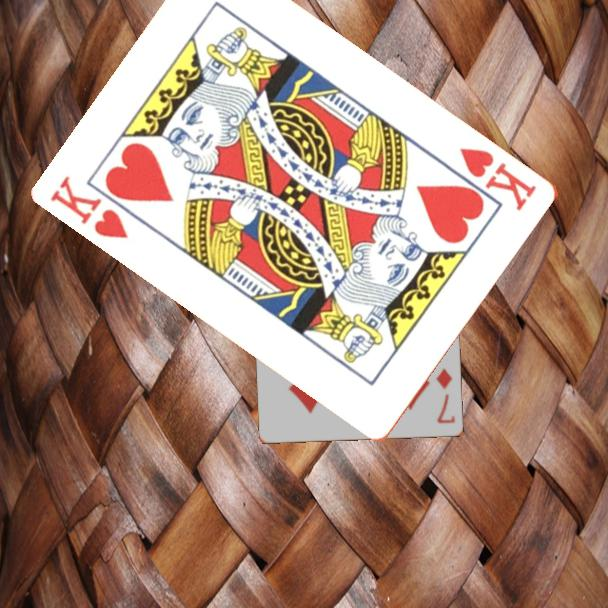d07: (433, 366, 458, 427)
h13: (47, 171, 132, 242), (456, 144, 541, 214)
